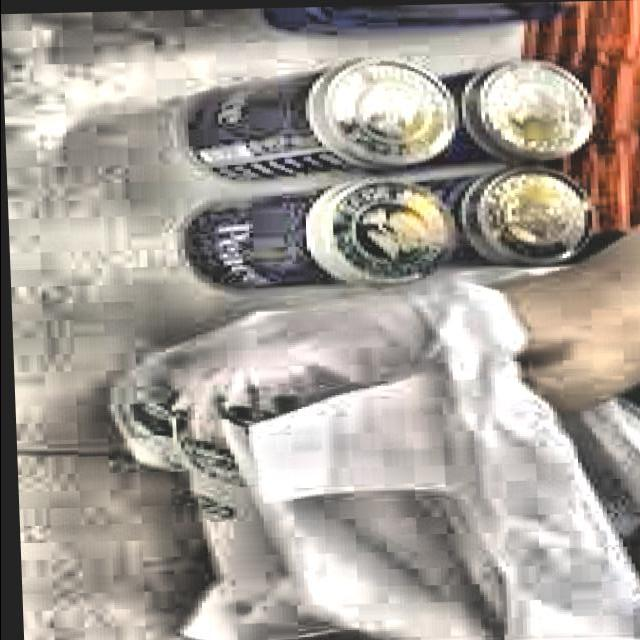litter: (166, 52, 464, 184), (171, 172, 457, 300), (402, 163, 616, 280), (404, 57, 598, 172)
